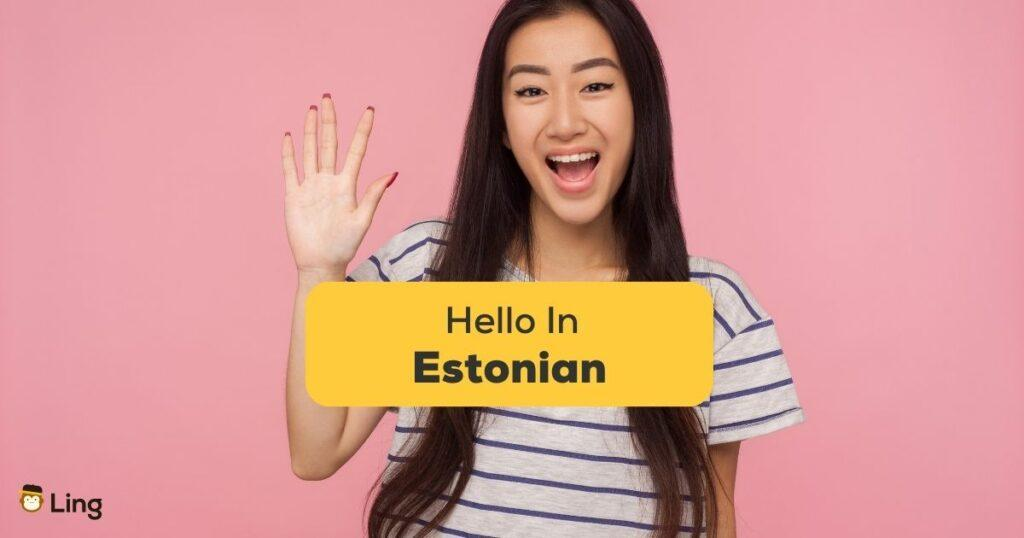Hello: (268, 89, 405, 331)
